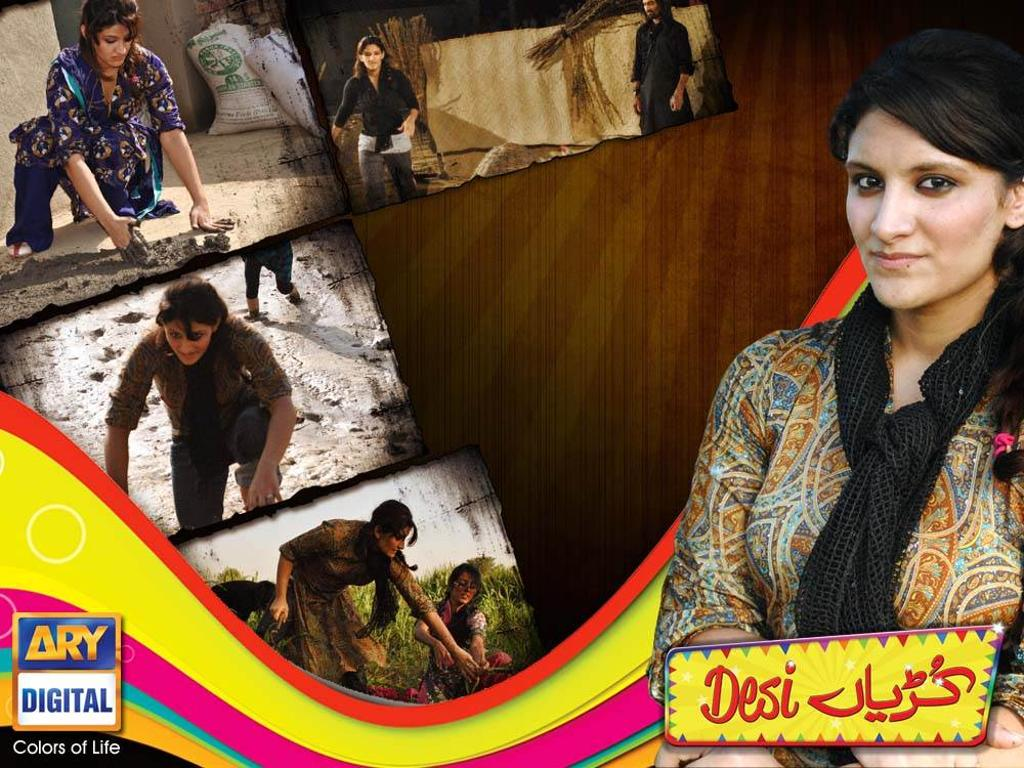face: (843, 102, 1007, 311), (164, 321, 211, 365), (92, 22, 131, 67), (379, 522, 411, 557), (453, 570, 477, 603), (363, 44, 382, 69), (643, 0, 660, 18)
